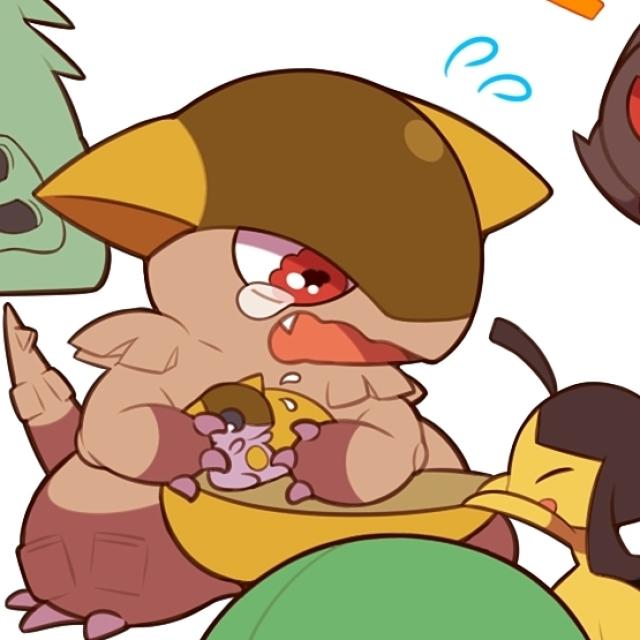Kangaskhan: (54, 109, 486, 598)
